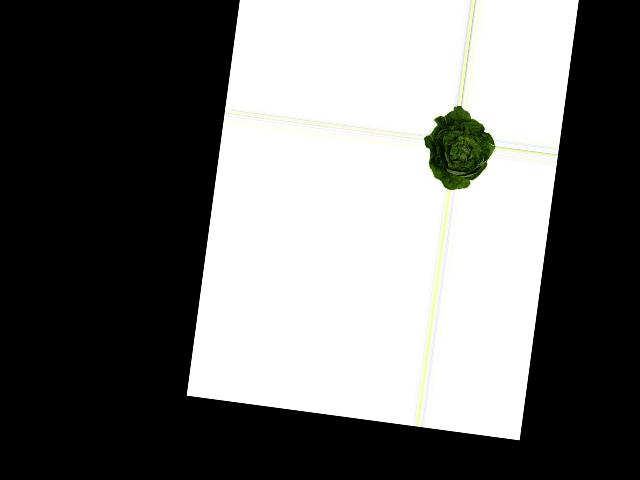lettuce: (417, 104, 498, 195)
